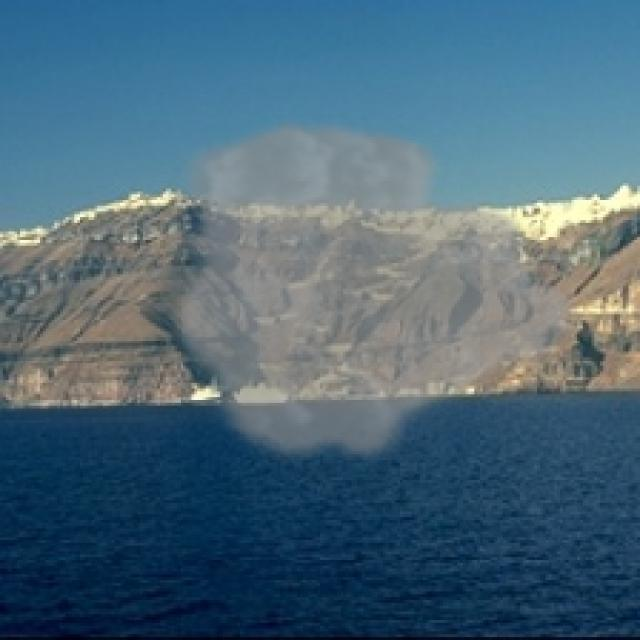Smoke: (168, 114, 588, 472)
